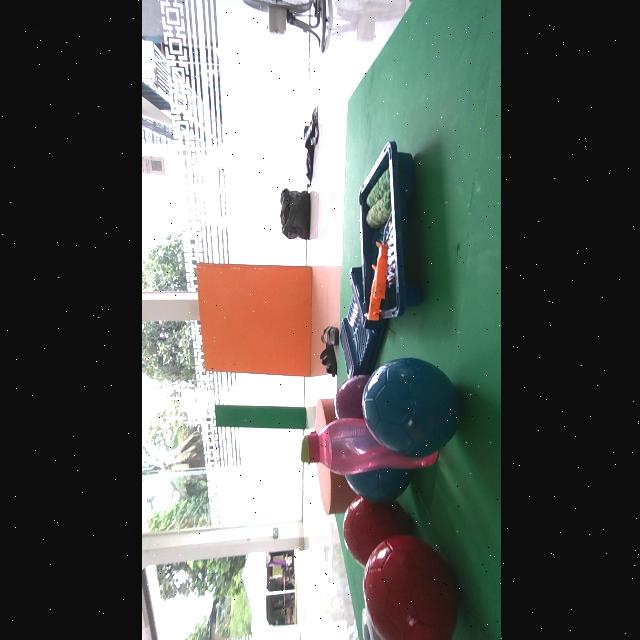B: (360, 358, 459, 457), (344, 469, 410, 503)
P: (332, 376, 367, 419)
R: (361, 535, 456, 640), (343, 497, 410, 567)
